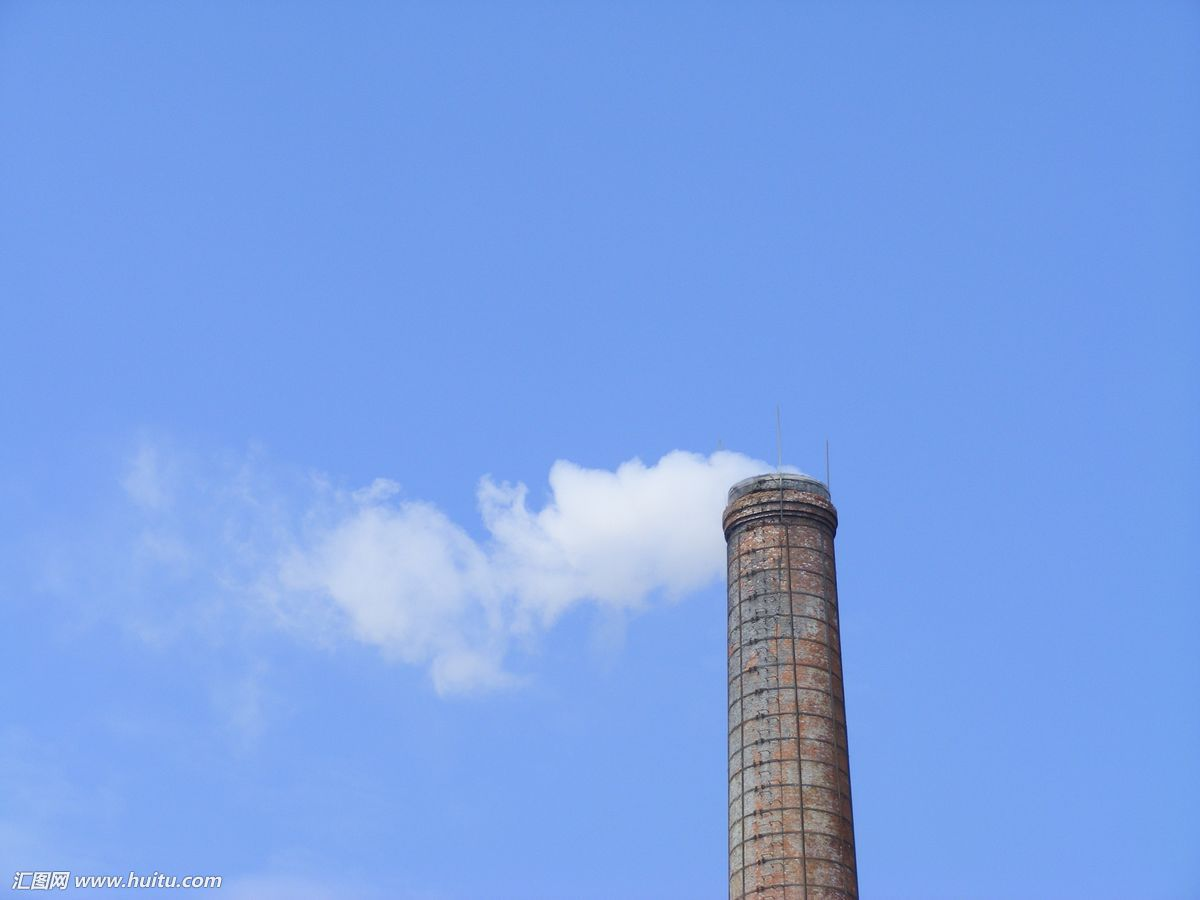dust: (425, 454, 846, 579)
